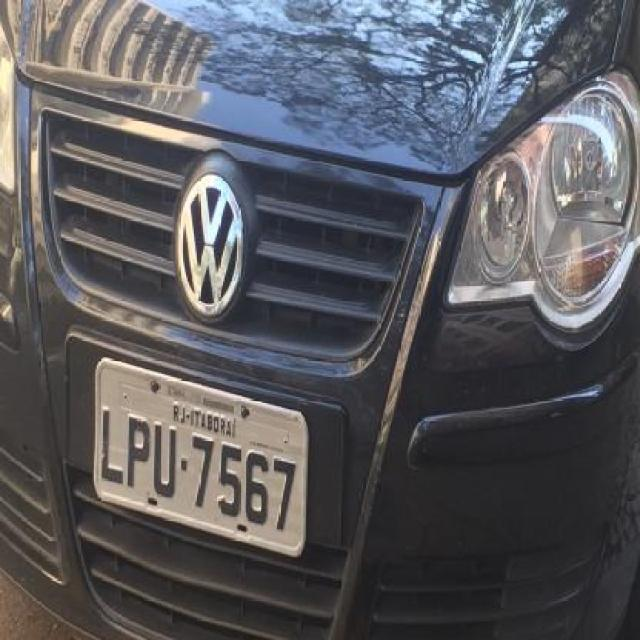old_plate: (87, 350, 317, 562)
